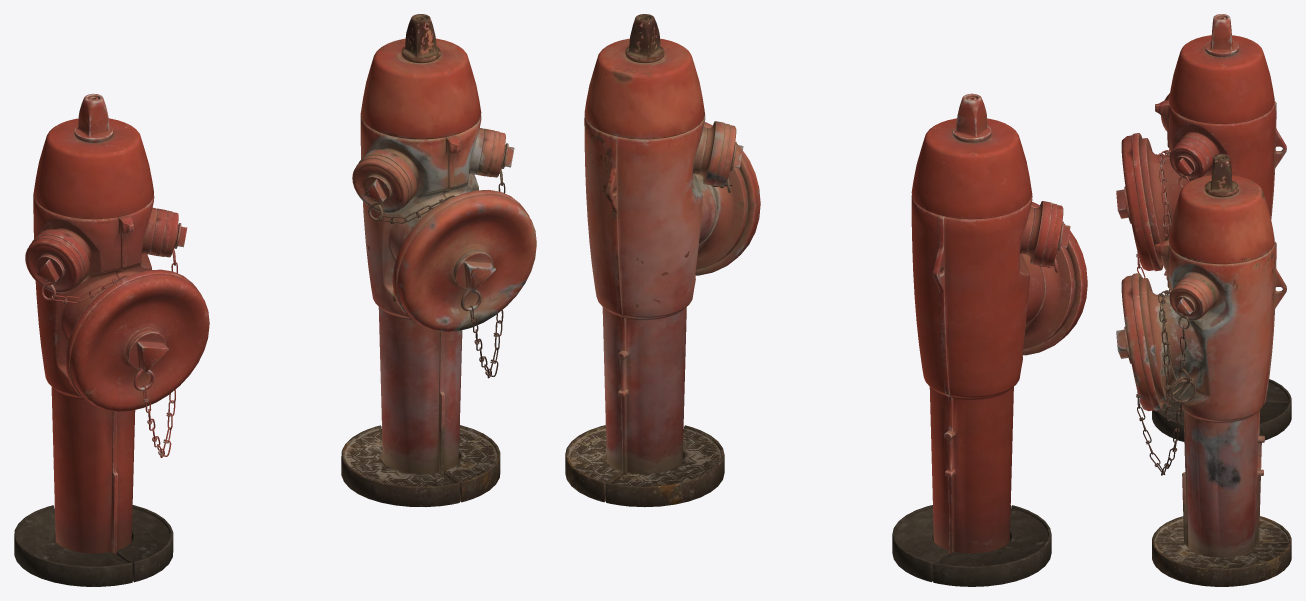
File: fire_hydrant-lod0.glb
3 views of the same model, side by side, from view 1: azimuth 30°, elevation 25°; view 2: azimuth 150°, elevation 25°; view 3: azimuth 270°, elevation 25° (orthographic). The views are drawn at different scales.
Parts seen in each view (by area): view 1: fire_hydrant, fire_hydrant_aged; view 2: fire_hydrant, fire_hydrant_aged; view 3: fire_hydrant_aged, fire_hydrant.
Boxes of the visible parts, bbox=[...] form: fire_hydrant: bbox=[14, 93, 209, 586]; fire_hydrant_aged: bbox=[341, 14, 536, 506]; fire_hydrant: bbox=[892, 93, 1087, 586]; fire_hydrant_aged: bbox=[565, 14, 760, 507]; fire_hydrant_aged: bbox=[1116, 154, 1291, 586]; fire_hydrant: bbox=[1116, 14, 1291, 441].
Bounding box in the file's own units: 0.8746 × 0.7995 × 0.3177.
2 materials, 2 textured.
